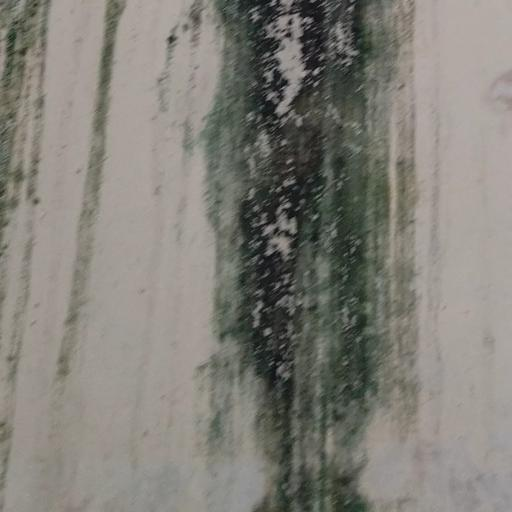algae: (63, 12, 451, 512)
